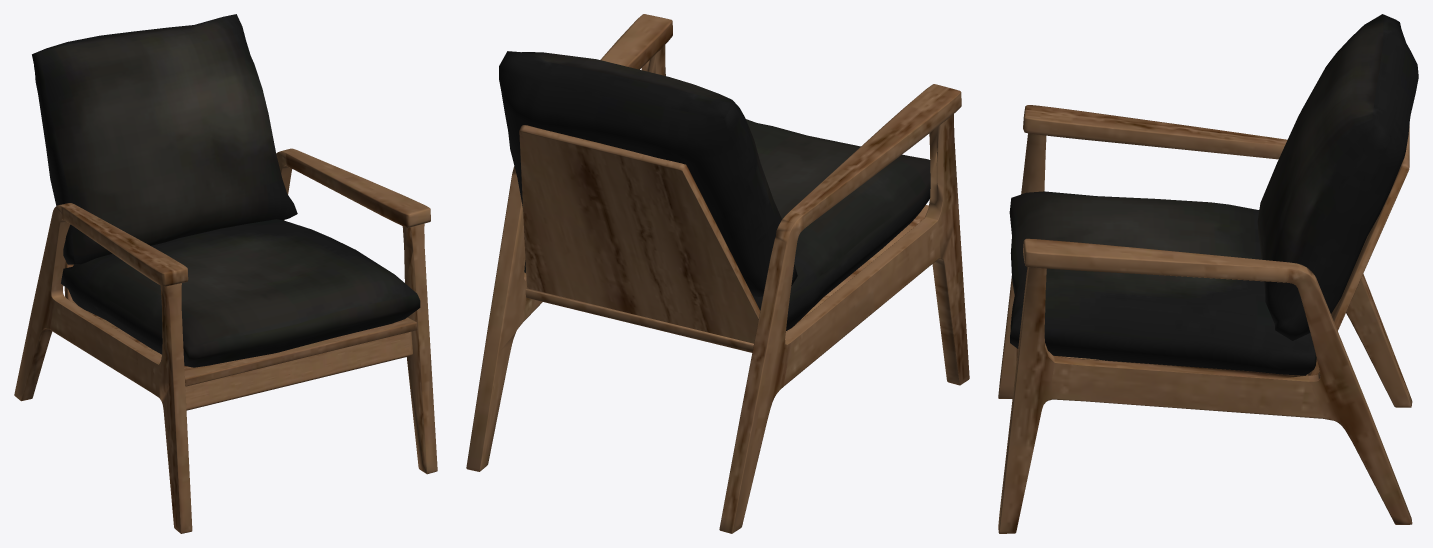
File: modern_arm_chair_01.glb
3 renders of one model, left to right at view 1: azimuth 30°, elevation 25°; view 2: azimuth 150°, elevation 25°; view 3: azimuth 270°, elevation 25°, orthographic. The views are drawn at different scales.
Visible parts, largest first — view 1: modern_arm_chair_01; view 2: modern_arm_chair_01; view 3: modern_arm_chair_01.
Boxes of the visible parts, x1,y1,x2,y2 form: modern_arm_chair_01: (14,14,437,533); modern_arm_chair_01: (466,14,969,533); modern_arm_chair_01: (998,14,1418,533).
Bounding box in the file's own units: 0.8203 × 1.02 × 0.9865.
2 materials, 2 textured.
